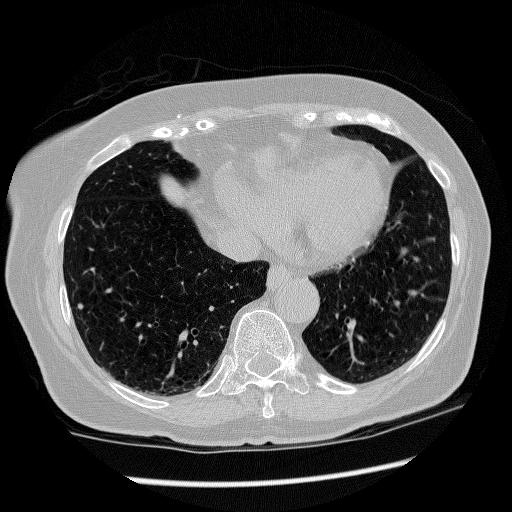nodule: (75, 301, 86, 312)
